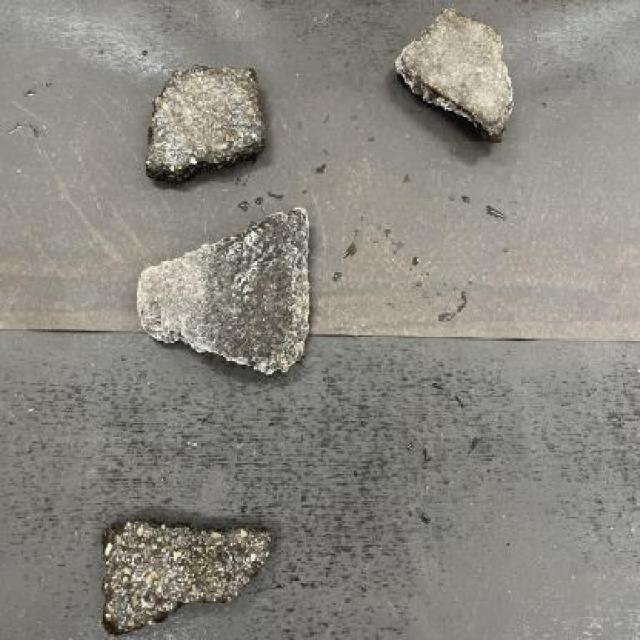Road Debris: (106, 518, 268, 631), (412, 11, 520, 150), (202, 209, 286, 374), (156, 76, 264, 169)
